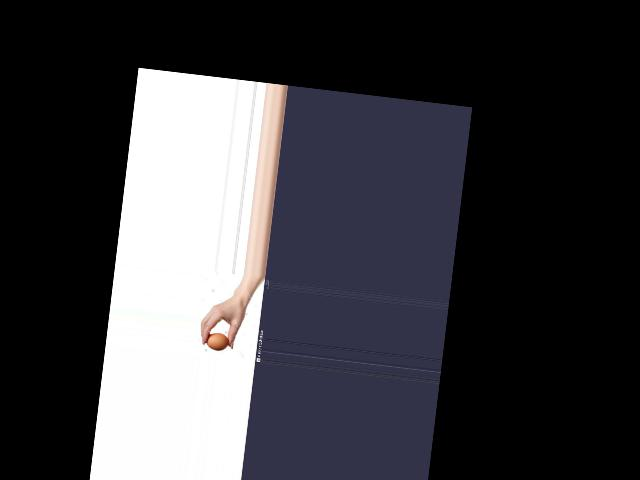egg: (206, 331, 229, 351)
